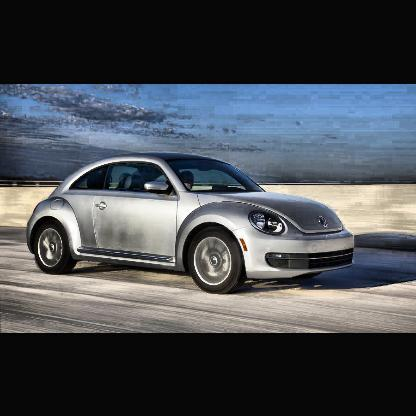Volkswagen Beetle Hatchback 2012: (29, 151, 360, 298)
